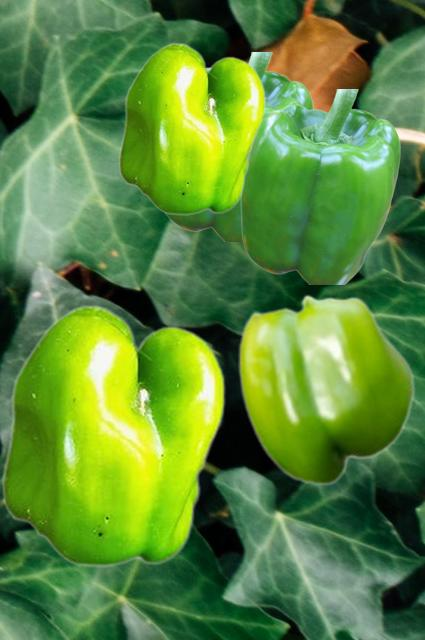bell_pepper: (1, 304, 224, 566), (238, 294, 414, 485), (240, 89, 399, 283), (165, 52, 312, 240), (118, 42, 264, 214)
